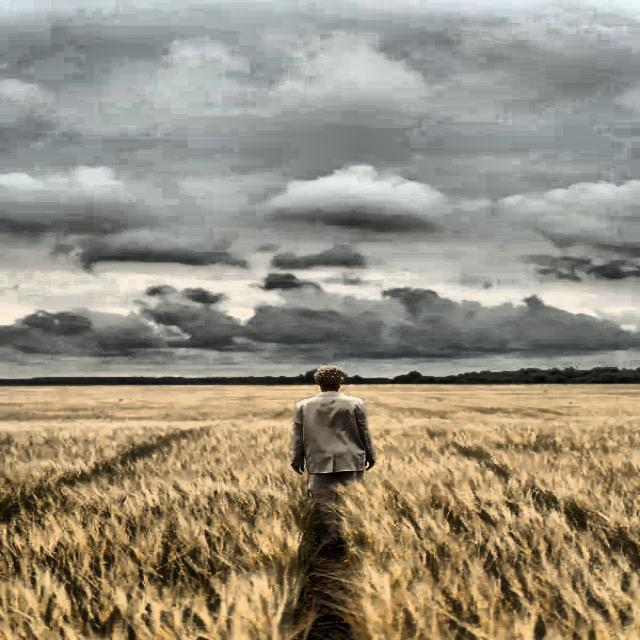Human: (265, 356, 411, 572)
